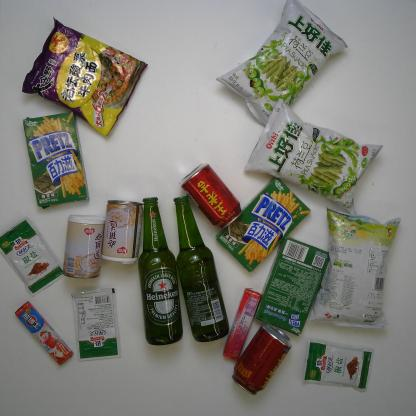Alcohol: (176, 192, 233, 342), (139, 194, 185, 346)
Candy: (13, 302, 74, 366), (224, 288, 263, 360)
Canned Food: (102, 199, 142, 267), (64, 214, 104, 276)
Dessert: (219, 173, 313, 273), (251, 236, 330, 335), (23, 113, 96, 211)
Drink: (233, 323, 294, 396), (183, 162, 243, 233)
Instant Noodles: (22, 18, 148, 136)
Puffed Food: (220, 2, 349, 131), (244, 101, 381, 218), (311, 204, 402, 331)
Seasoner: (0, 218, 63, 293), (68, 288, 122, 362), (302, 340, 374, 393)
